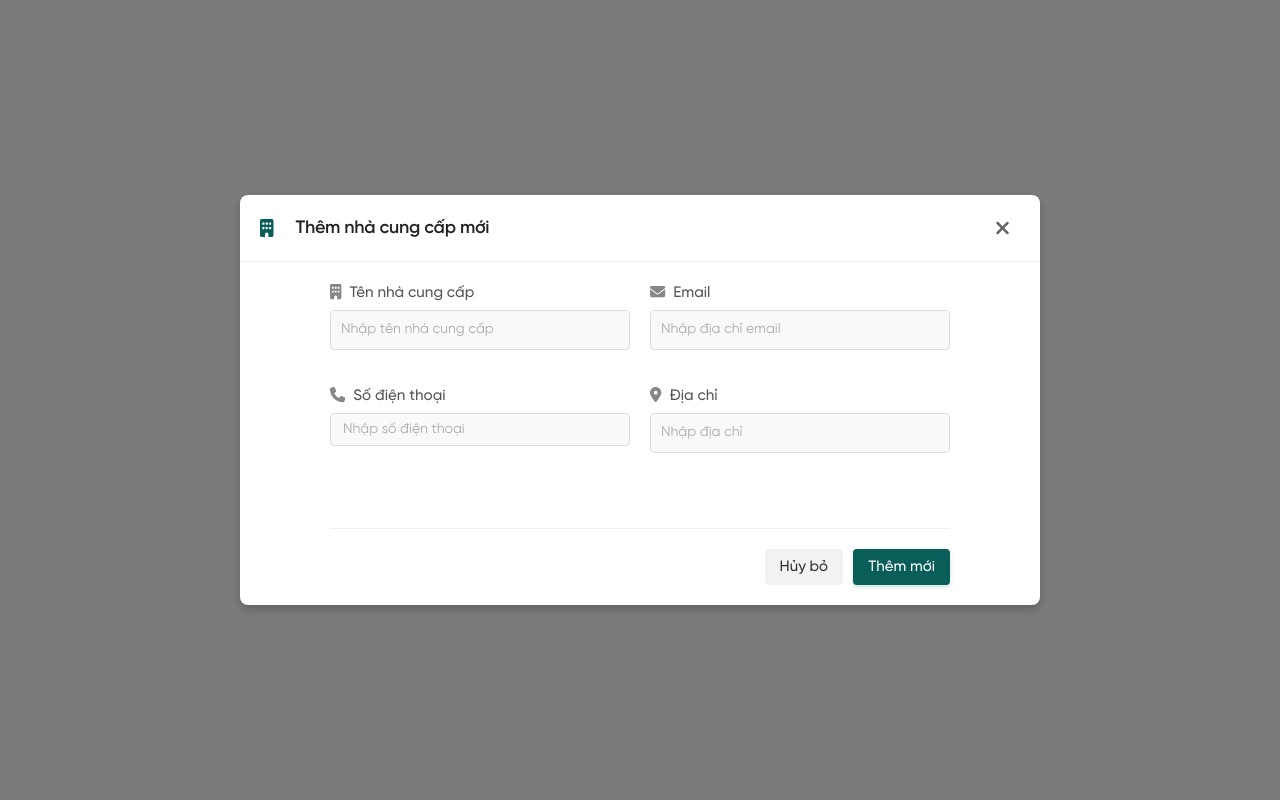
SupplierForm › shows error if submit with empty fields
Click the button "Thêm mới".
click(902, 567)  # box x1=853 y1=549 x2=950 y2=585
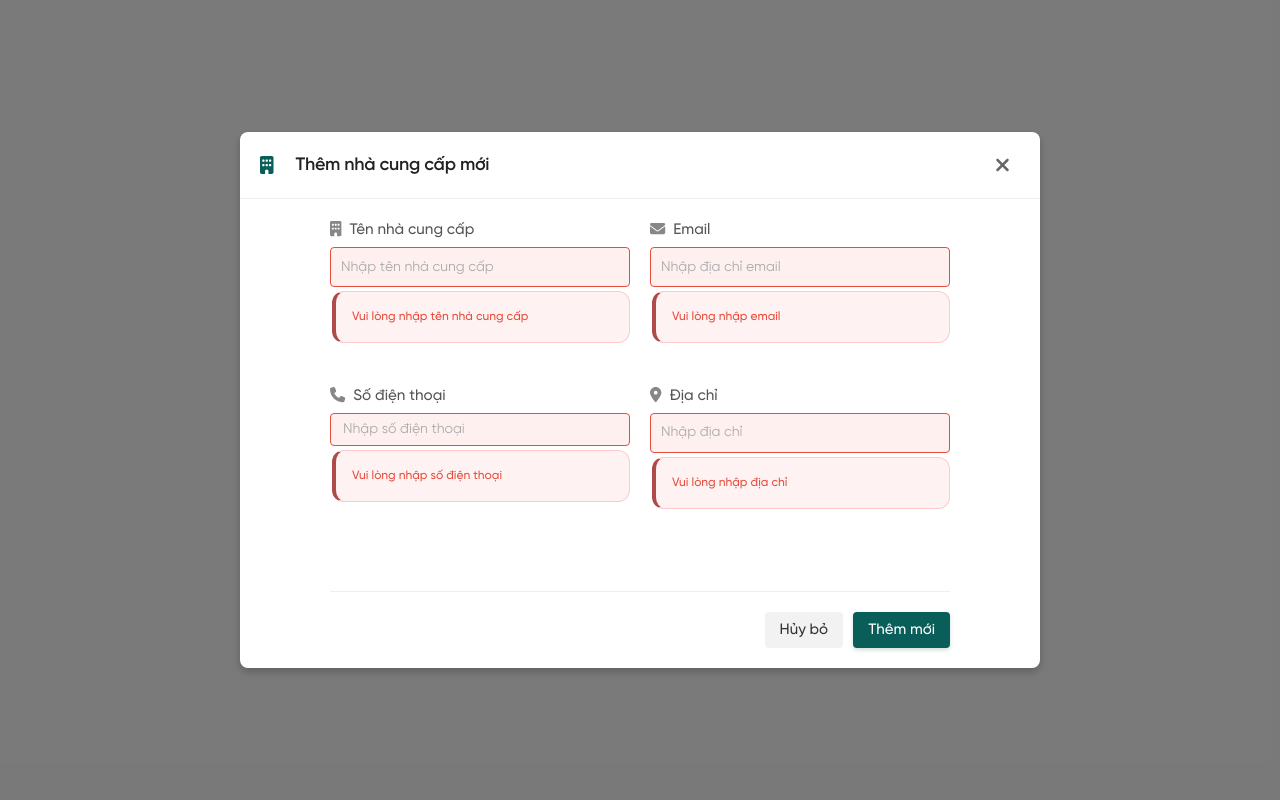
Now the text "Vui lòng nhập tên nhà cung cấp" is shown, box x1=332 y1=291 x2=630 y2=343
Now the text "Vui lòng nhập số điện thoại" is shown, box x1=332 y1=450 x2=630 y2=502
Now the text "Vui lòng nhập email" is shown, box x1=652 y1=291 x2=950 y2=343
